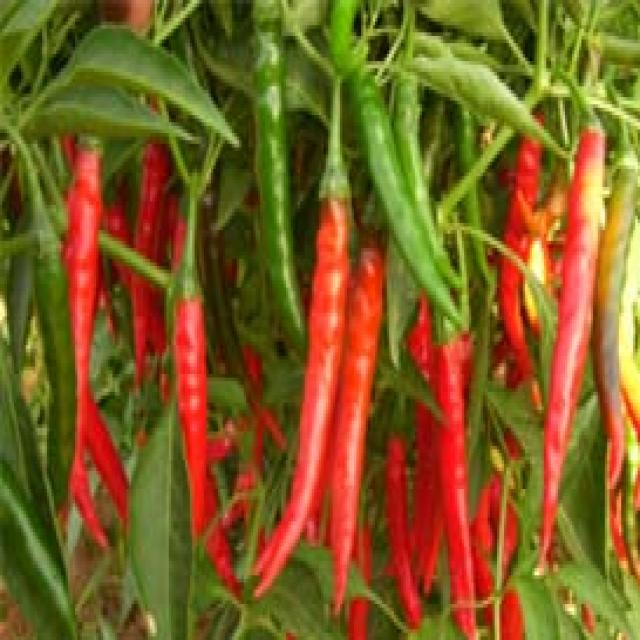red chili: (255, 194, 357, 593), (522, 136, 612, 584), (424, 345, 474, 624), (170, 262, 216, 535), (64, 150, 109, 420)
